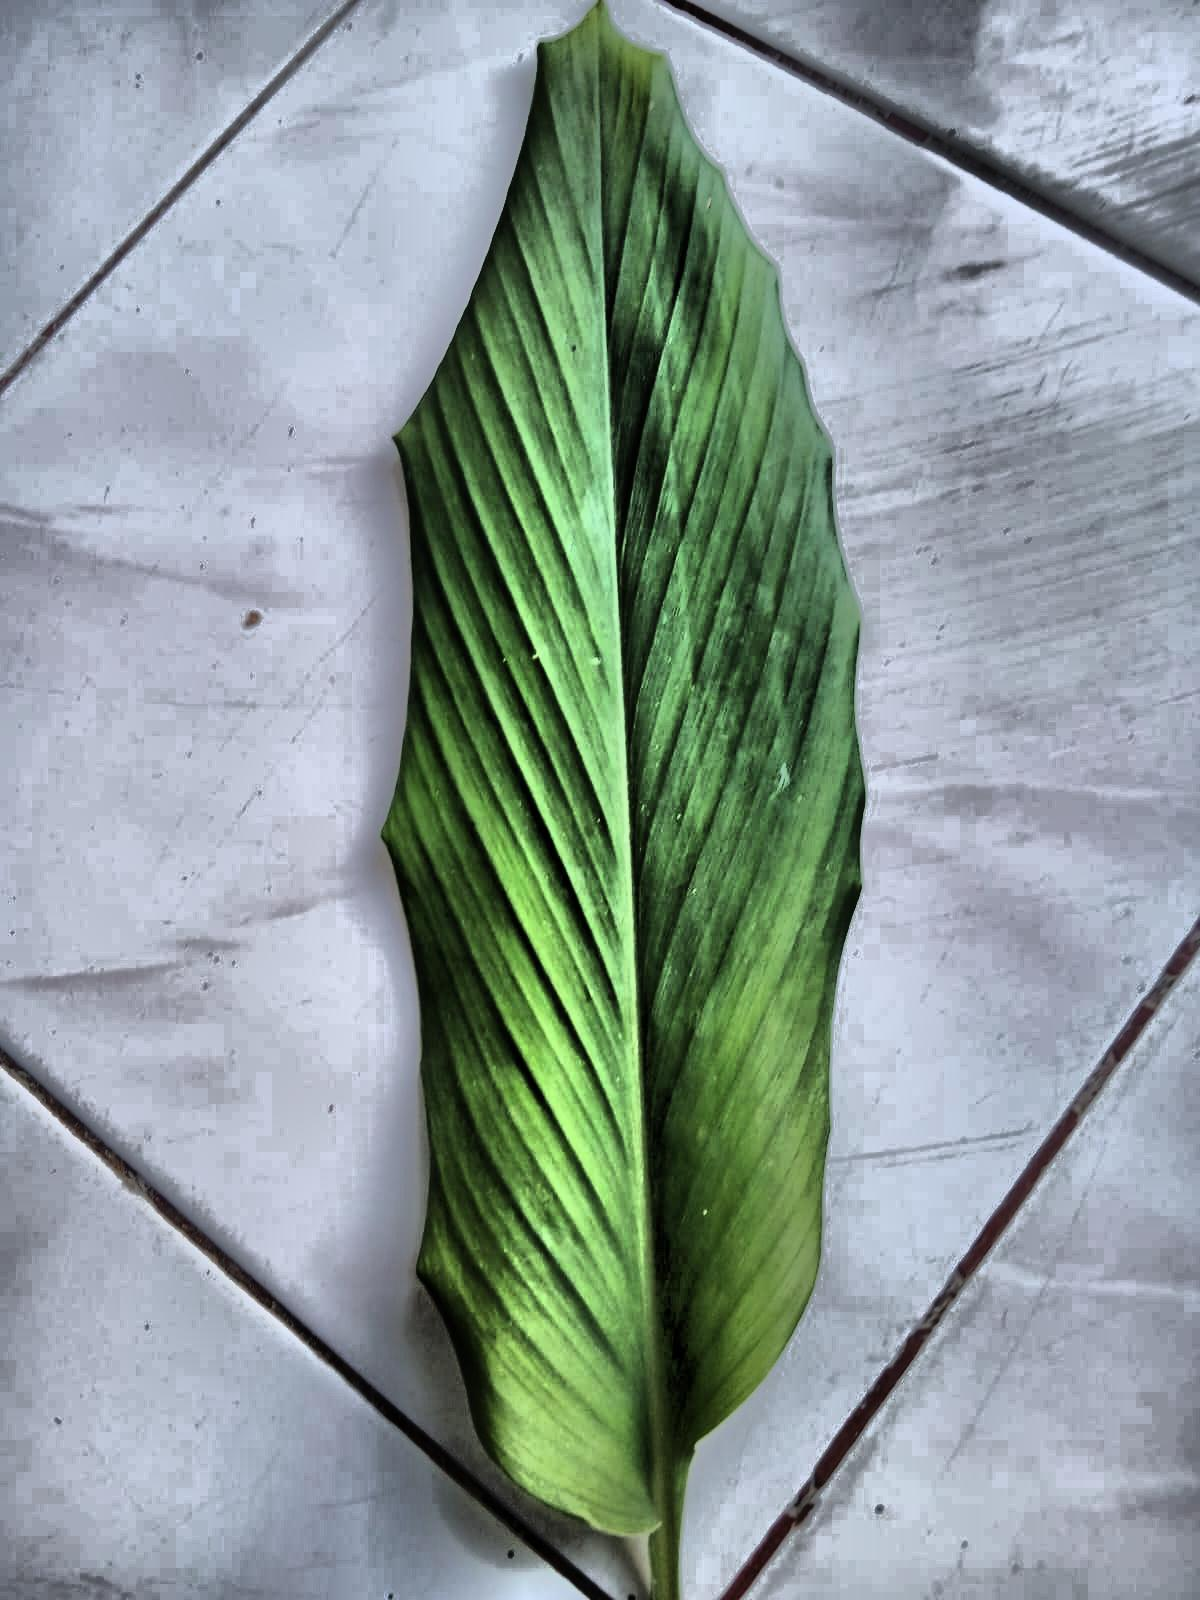daun kunyit: (381, 0, 863, 1599)
